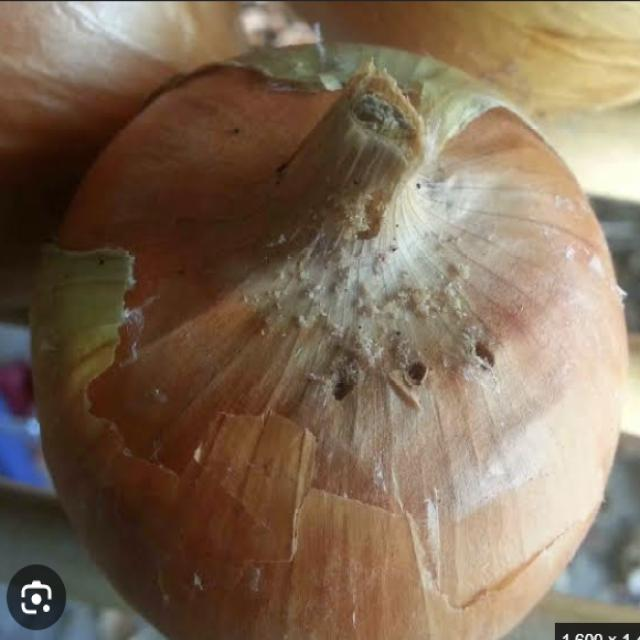mechanical_damage: (24, 41, 626, 639)
